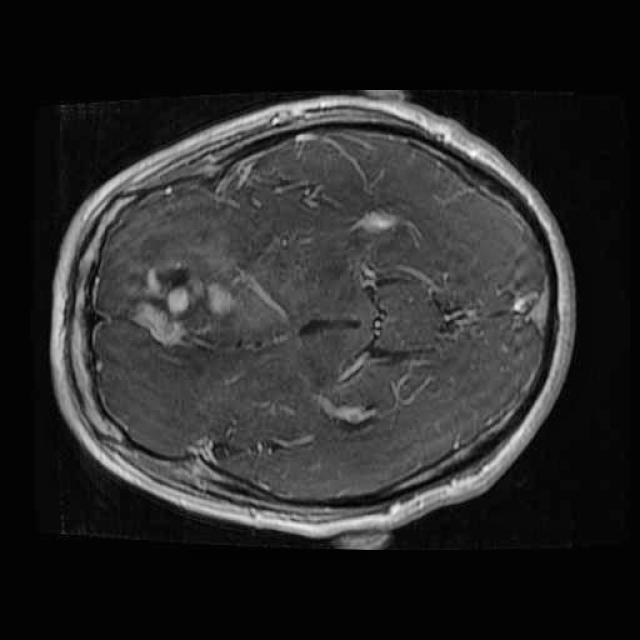Tumor: (118, 231, 248, 367)
